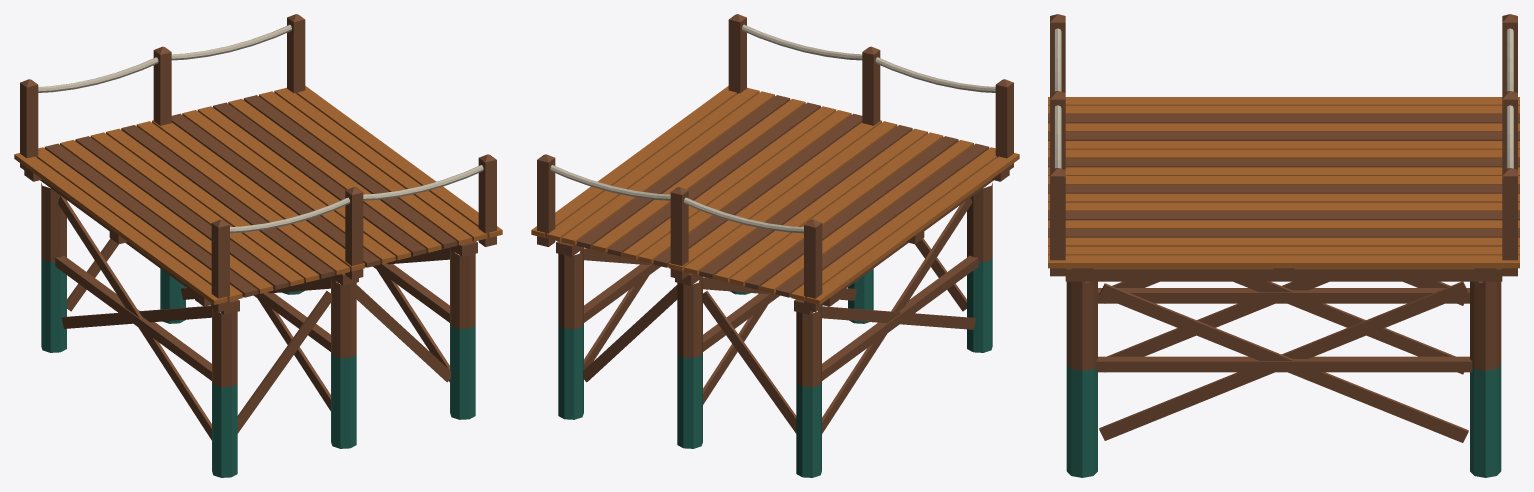
File: iskele_modul.glb
The picture shows the model from 3 angles, left to right: view 1: azimuth 30°, elevation 25°; view 2: azimuth 150°, elevation 25°; view 3: azimuth 270°, elevation 25°; orthographic projection. The views are drawn at different scales.
Visible parts, largest first — view 1: iskele_modul; view 2: iskele_modul; view 3: iskele_modul.
Part boxes in pixels (x1,y1,x2,y2): iskele_modul: (14, 14, 502, 477); iskele_modul: (531, 14, 1019, 477); iskele_modul: (1048, 14, 1519, 477).
Bounding box in the file's own units: 4 × 3.5 × 4.8.
